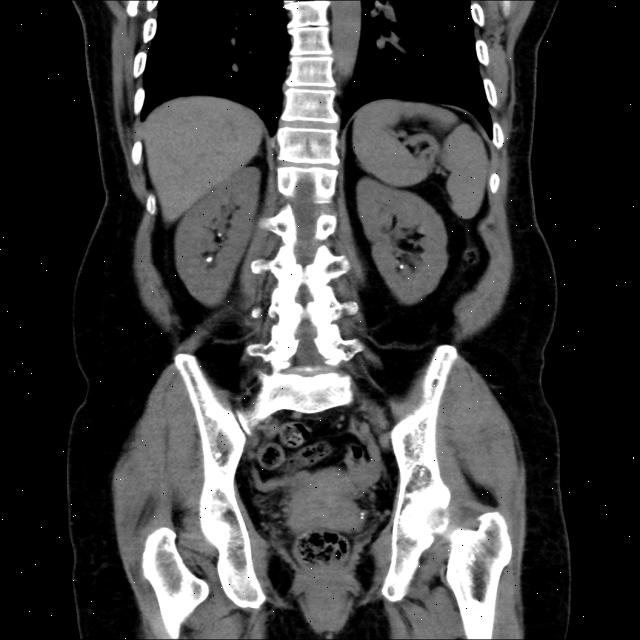kidneystone: (205, 252, 213, 266), (396, 259, 405, 271), (214, 229, 223, 241)
